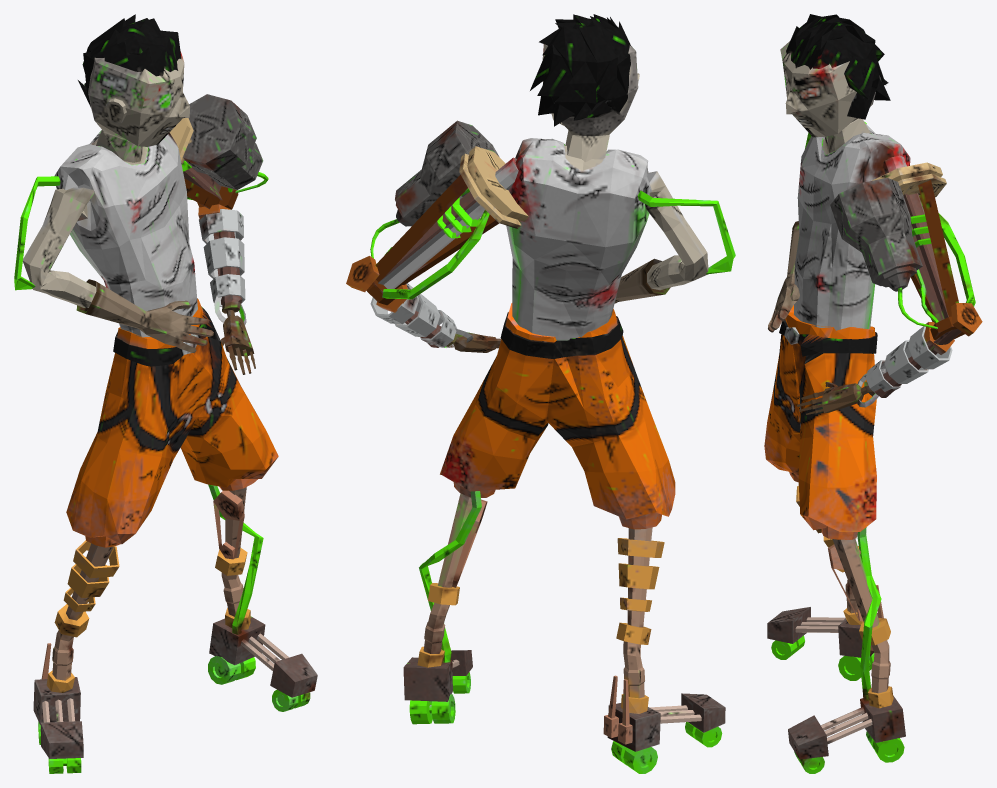
Rendered from CyborgFINALAnimation_000100.obj.
The picture shows the model from 3 angles, left to right: view 1: azimuth 30°, elevation 25°; view 2: azimuth 150°, elevation 25°; view 3: azimuth 270°, elevation 25°; orthographic projection. The views are drawn at different scales.
Visible parts, largest first — view 1: CyborgMesh_Cube.002; view 2: CyborgMesh_Cube.002; view 3: CyborgMesh_Cube.002.
Part boxes in pixels (x1,y1,x2,y2): CyborgMesh_Cube.002: (14,14,317,773); CyborgMesh_Cube.002: (346,14,735,773); CyborgMesh_Cube.002: (764,14,982,773).
Bounding box in the file's own units: 4.27 × 9.6 × 2.77.
